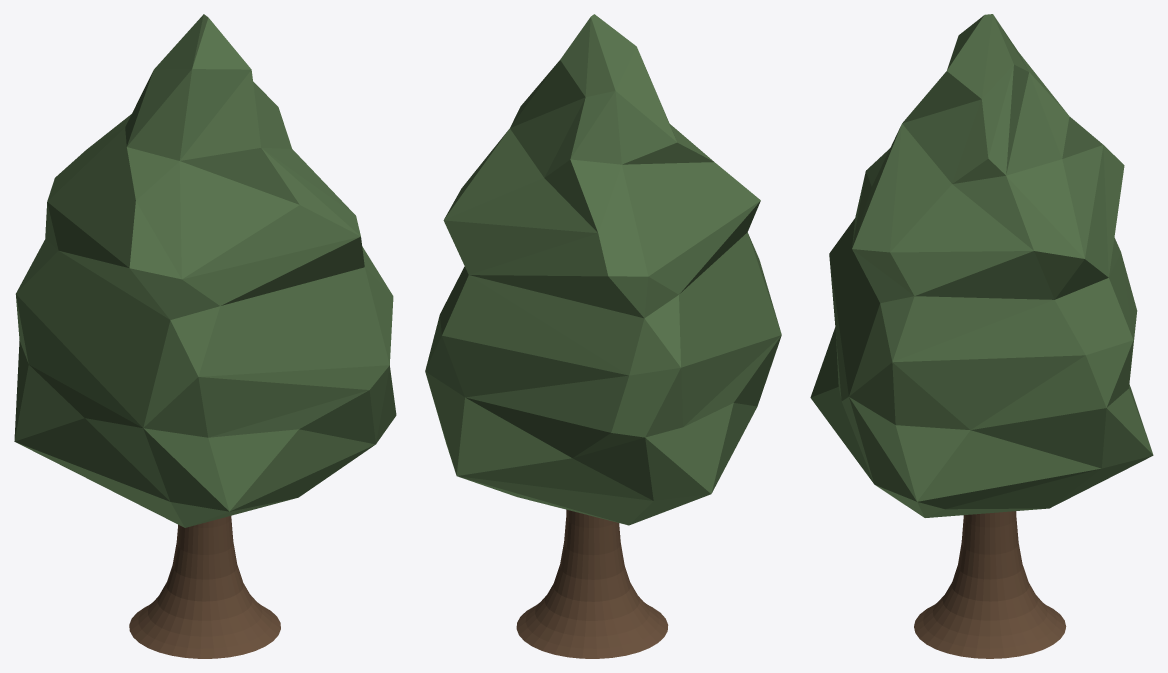
The model's file is BACKGROUND_tree.fbx.
3 renders of one model, left to right at view 1: azimuth 30°, elevation 25°; view 2: azimuth 150°, elevation 25°; view 3: azimuth 270°, elevation 25°, orthographic.
Visible parts, largest first — view 1: Cube, trunk; view 2: Cube, trunk; view 3: Cube, trunk.
Part boxes in pixels (x1,y1,x2,y2): Cube: [14, 14, 396, 527]; trunk: [129, 516, 280, 658]; Cube: [425, 14, 781, 525]; trunk: [516, 509, 668, 658]; Cube: [810, 14, 1153, 517]; trunk: [914, 511, 1066, 658].
Bounding box in the file's own units: 854 × 1611 × 818.
